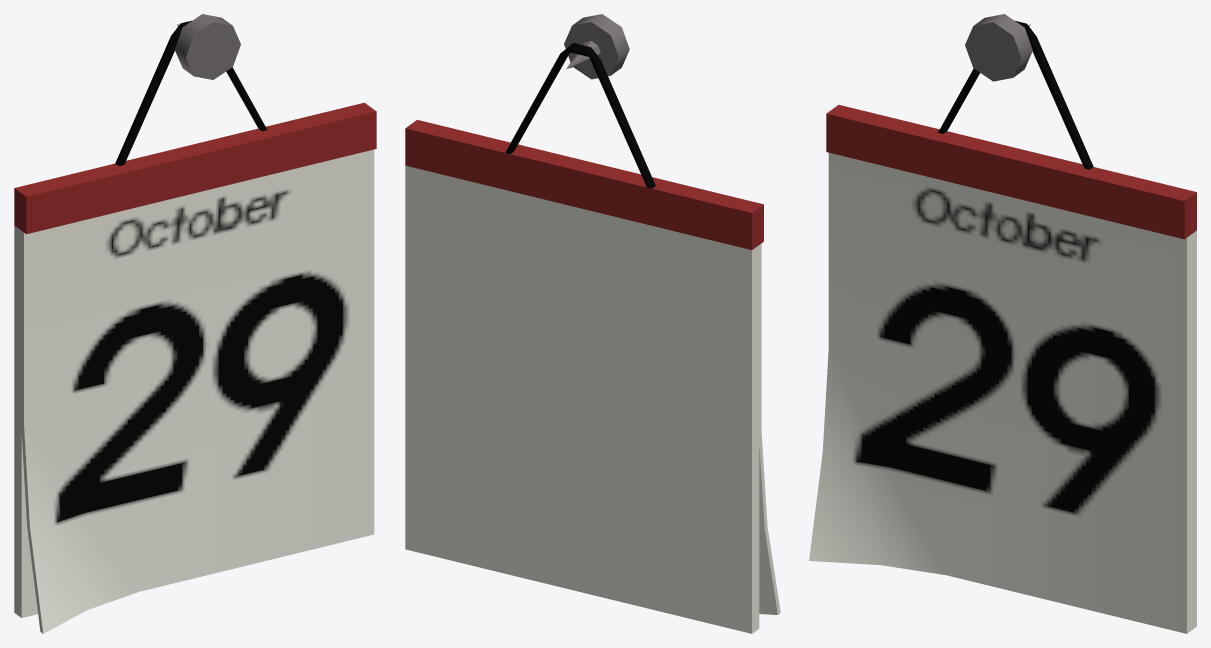
Rendered from 71_prop_calendar.FBX.
The picture shows the model from 3 angles, left to right: view 1: azimuth 30°, elevation 25°; view 2: azimuth 150°, elevation 25°; view 3: azimuth 330°, elevation 25°; orthographic projection. The views are drawn at different scales.
Parts seen in each view (by area): view 1: prop_calendar; view 2: prop_calendar; view 3: prop_calendar.
Boxes of the visible parts, x1=… form: prop_calendar: x1=14, y1=14, x2=376, y2=633; prop_calendar: x1=405, y1=14, x2=780, y2=633; prop_calendar: x1=809, y1=14, x2=1196, y2=633.
Size of the model in its own units: 28.25 by 43.59 by 5.83.
